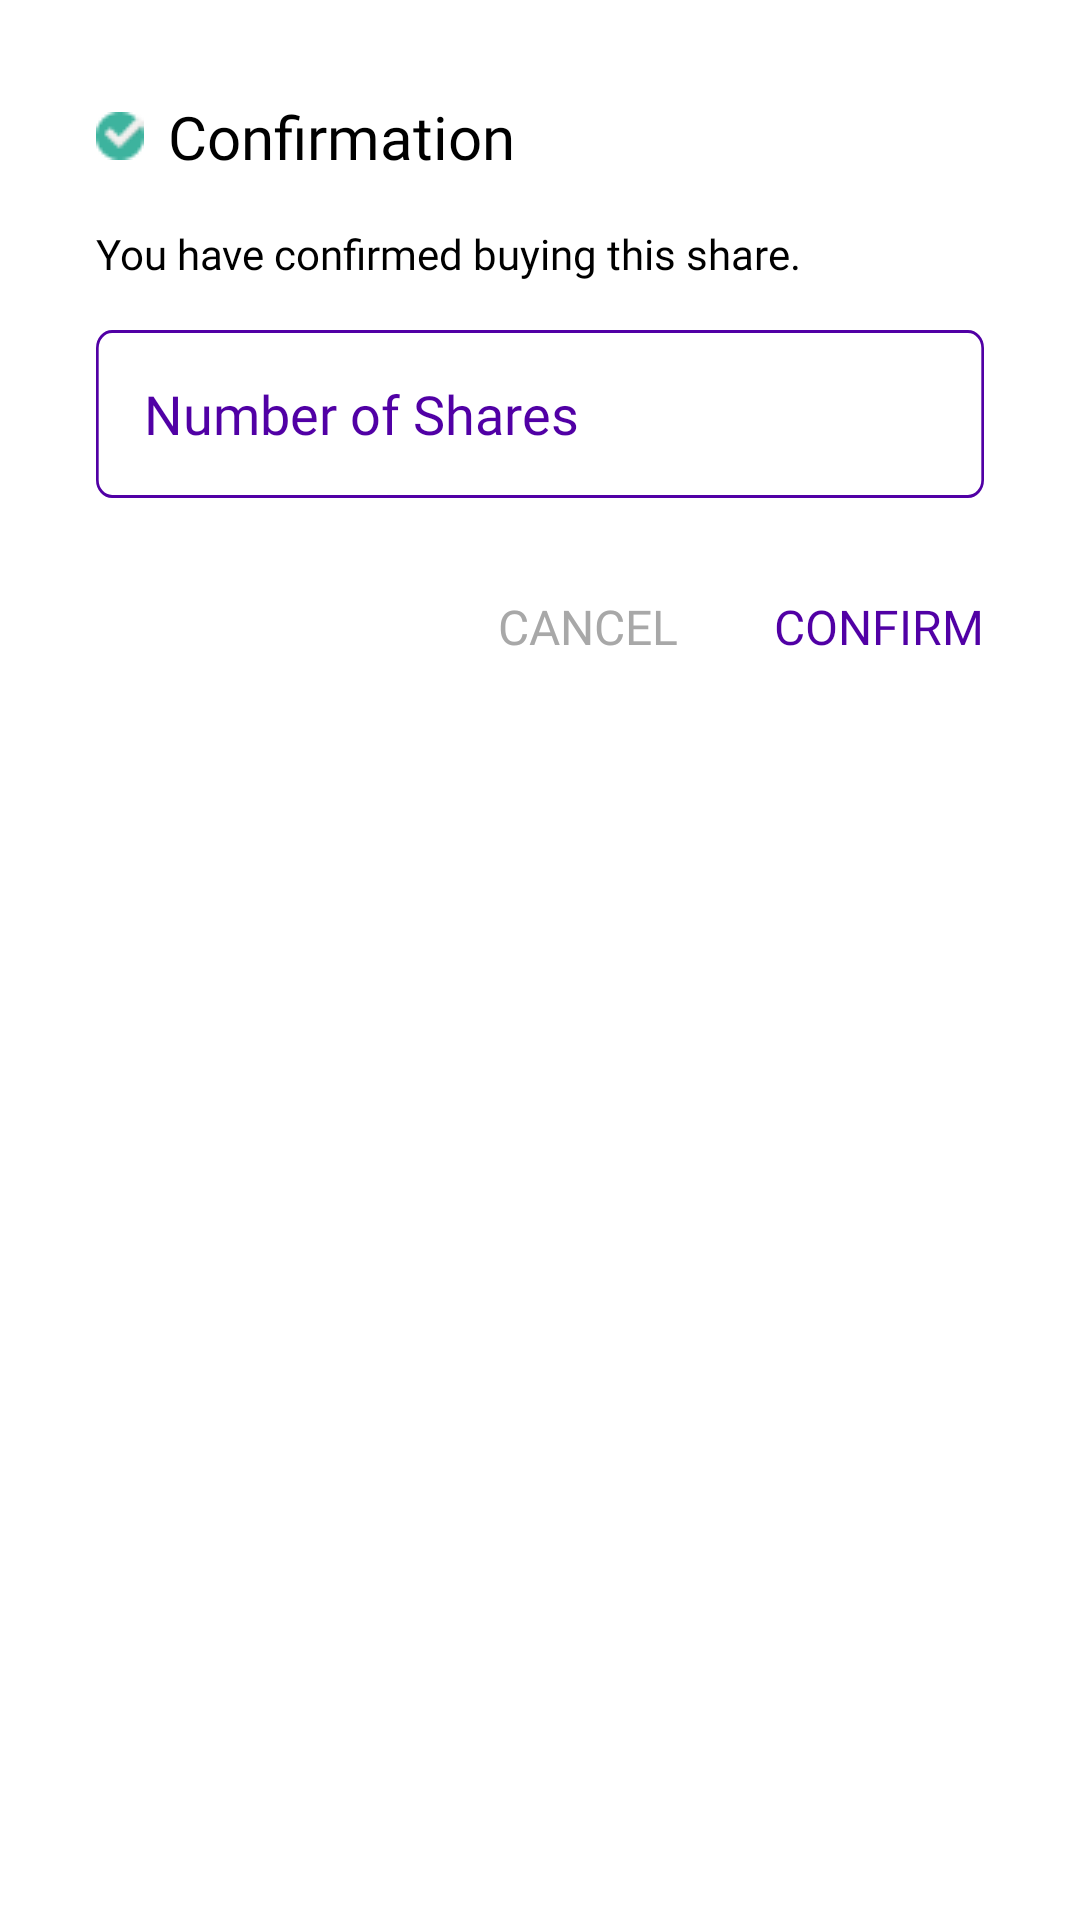

Icons on this 1080px×1920px Android screen, each with its box as box=[x1, y1, x2, y2]:
checked: box=[96, 112, 144, 160]
